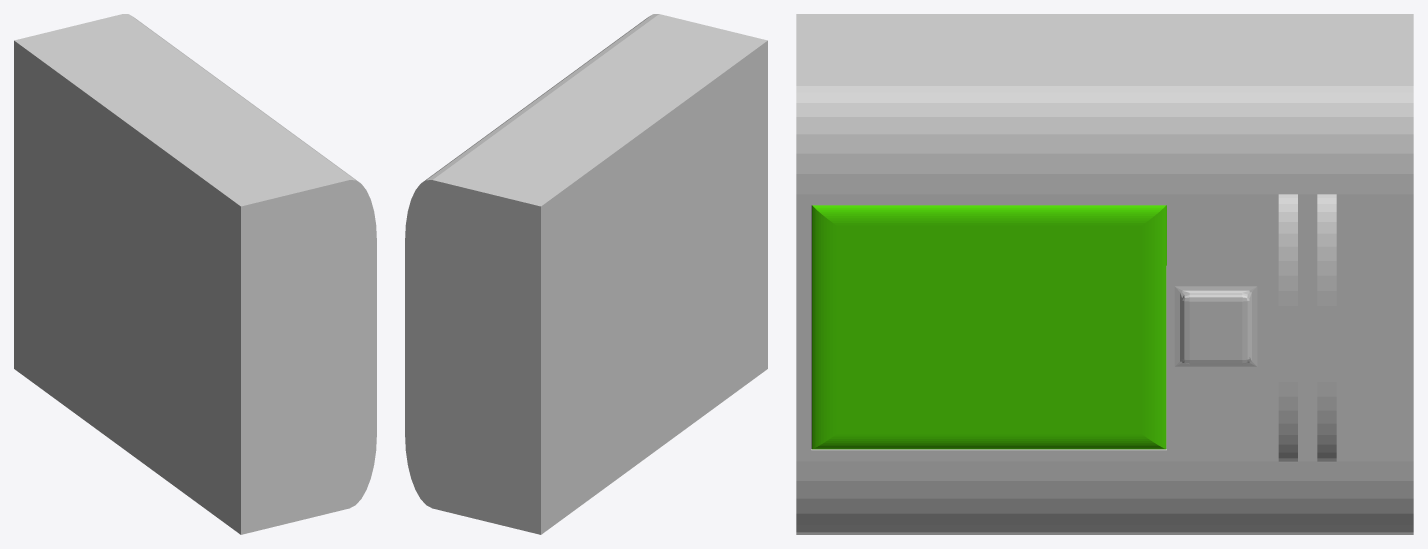
The model's file is DoorController.fbx.
3 renders of one model, left to right at view 1: azimuth 30°, elevation 25°; view 2: azimuth 150°, elevation 25°; view 3: azimuth 270°, elevation 25°, orthographic. The views are drawn at different scales.
Parts seen in each view (by area): view 1: Cube; view 2: Cube; view 3: Cube.
Part boxes in pixels (<box>): Cube: <box>14,14,376,534</box>; Cube: <box>405,14,767,534</box>; Cube: <box>796,14,1413,534</box>.
Bounding box in the file's own units: 43.95 × 86.1 × 108.
